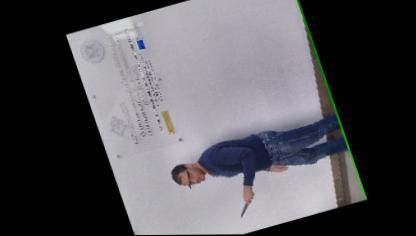knife: (230, 194, 254, 218)
